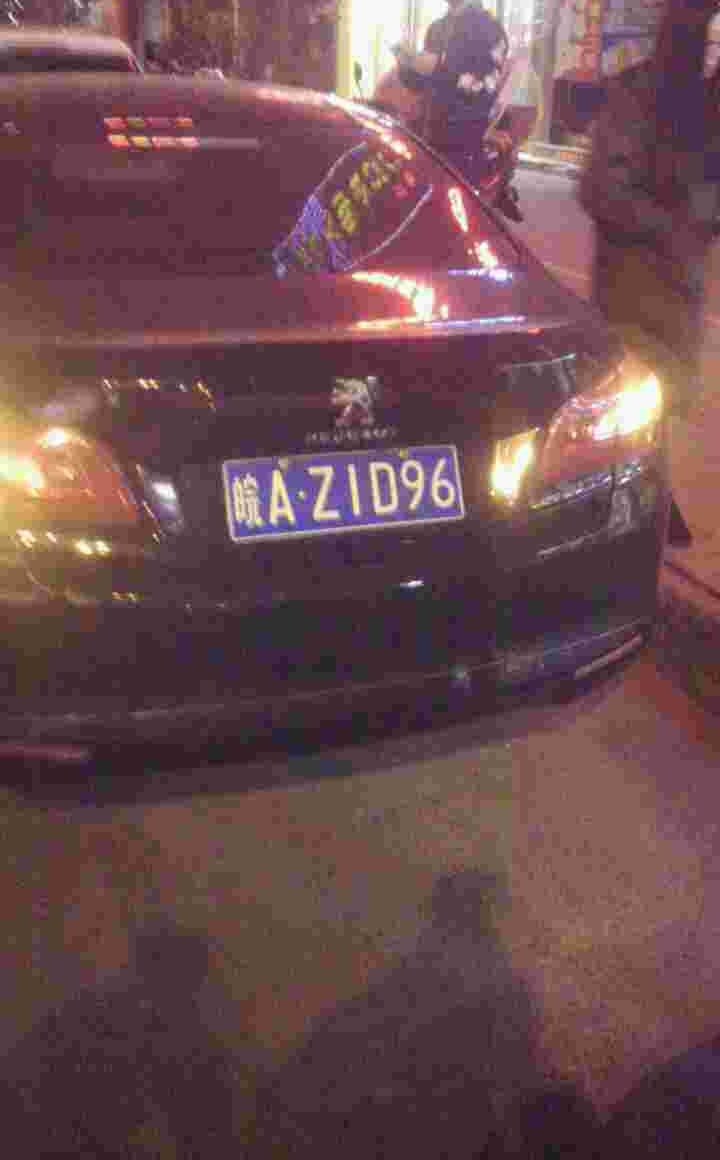license_plate: (214, 461, 462, 528)
